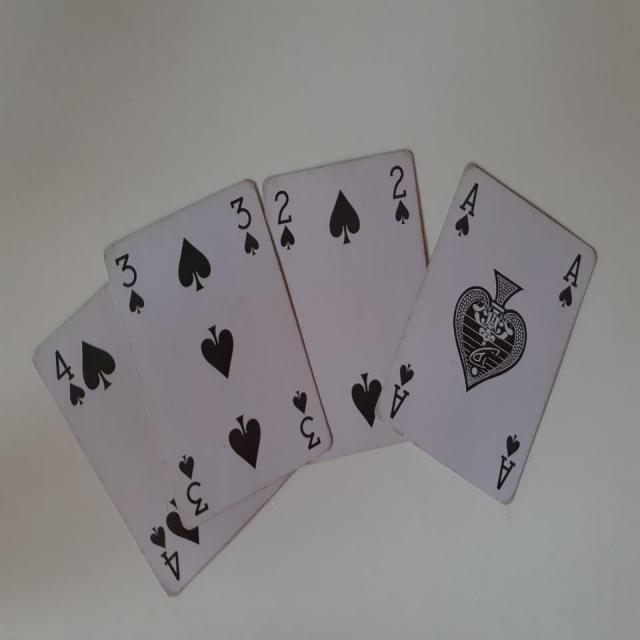2 Spades: (261, 149, 422, 455)
3 Spades: (105, 181, 333, 515)
4 Spades: (31, 320, 205, 603)
A Spades: (385, 167, 593, 512)
